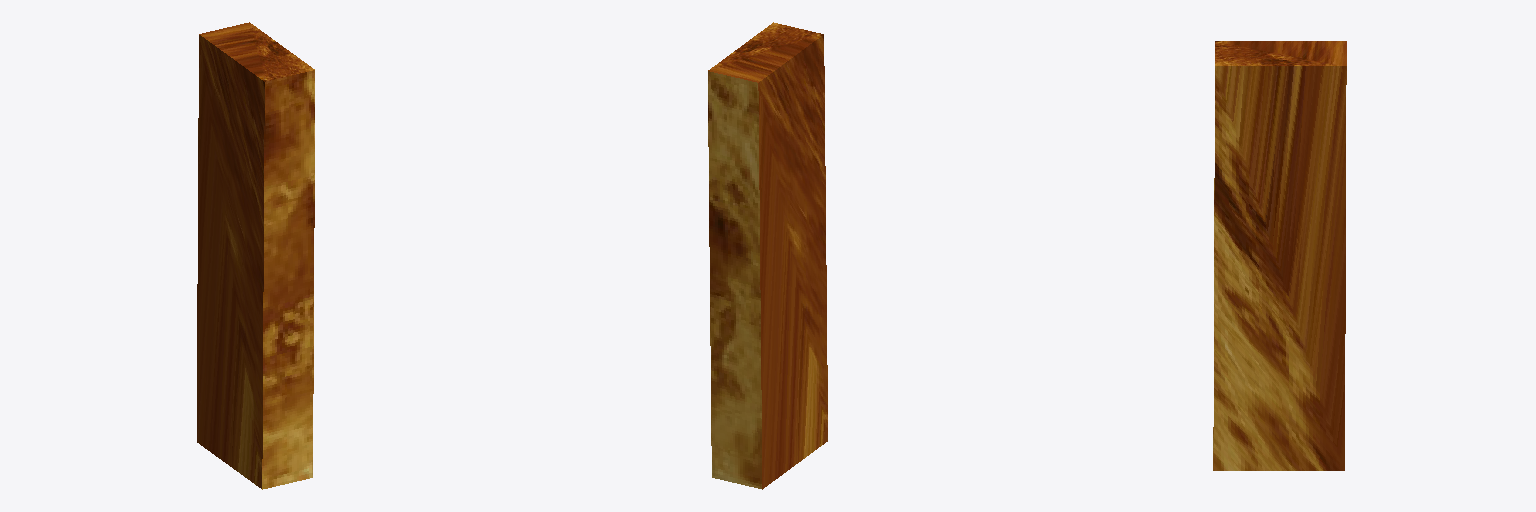
3 views of the same model, side by side, from view 1: azimuth 30°, elevation 25°; view 2: azimuth 150°, elevation 25°; view 3: azimuth 270°, elevation 25° (orthographic).
Visible parts, largest first — view 1: 文本_Mesh.002; view 2: 文本_Mesh.002; view 3: 文本_Mesh.002.
Part boxes in pixels (bbox=[...]): 文本_Mesh.002: bbox=[197, 22, 314, 489]; 文本_Mesh.002: bbox=[708, 22, 827, 489]; 文本_Mesh.002: bbox=[1213, 41, 1346, 470].
Size of the model in its own units: 0.1328 by 0.958 by 0.2838.
1 materials, 1 textured.